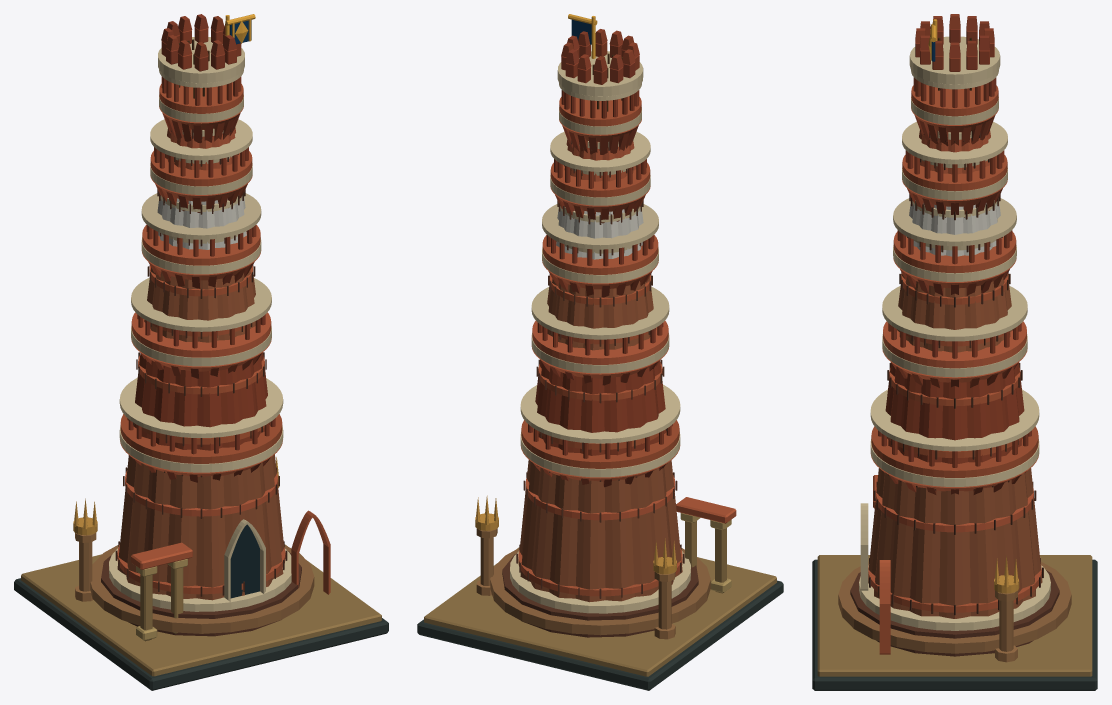
The picture shows the model from 3 angles, left to right: view 1: azimuth 30°, elevation 25°; view 2: azimuth 150°, elevation 25°; view 3: azimuth 270°, elevation 25°; orthographic projection. The views are drawn at different scales.
Parts seen in each view (by area): view 1: archer_tower_L2_0, archer_tower_L2_1; view 2: archer_tower_L2_0, archer_tower_L2_1; view 3: archer_tower_L2_0, archer_tower_L2_1.
Part boxes in pixels (x1,y1,x2,y2): archer_tower_L2_0: [14, 14, 388, 690]; archer_tower_L2_1: [73, 14, 279, 535]; archer_tower_L2_0: [417, 19, 783, 690]; archer_tower_L2_1: [475, 14, 676, 574]; archer_tower_L2_0: [812, 14, 1097, 690]; archer_tower_L2_1: [928, 19, 1019, 593].
Bounding box in the file's own units: 3.6 × 8.63 × 3.6.
